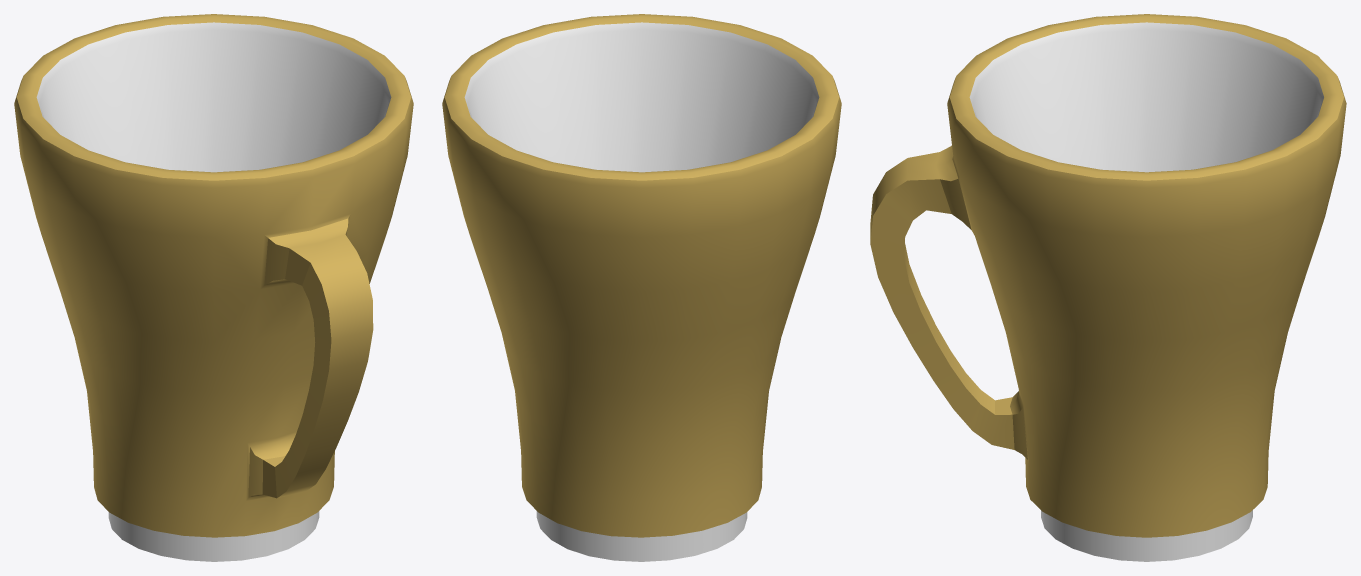
Rendered from Cups_03.glb.
3 views of the same model, side by side, from view 1: azimuth 30°, elevation 25°; view 2: azimuth 150°, elevation 25°; view 3: azimuth 270°, elevation 25° (orthographic).
Parts seen in each view (by area): view 1: Mesh_Cups_03; view 2: Mesh_Cups_03; view 3: Mesh_Cups_03.
Boxes of the visible parts, bbox=[...] form: Mesh_Cups_03: bbox=[14, 14, 413, 561]; Mesh_Cups_03: bbox=[442, 14, 841, 561]; Mesh_Cups_03: bbox=[870, 14, 1346, 561].
Size of the model in its own units: 0.0806 by 0.094 by 0.0961.
1 material, 1 textured.
